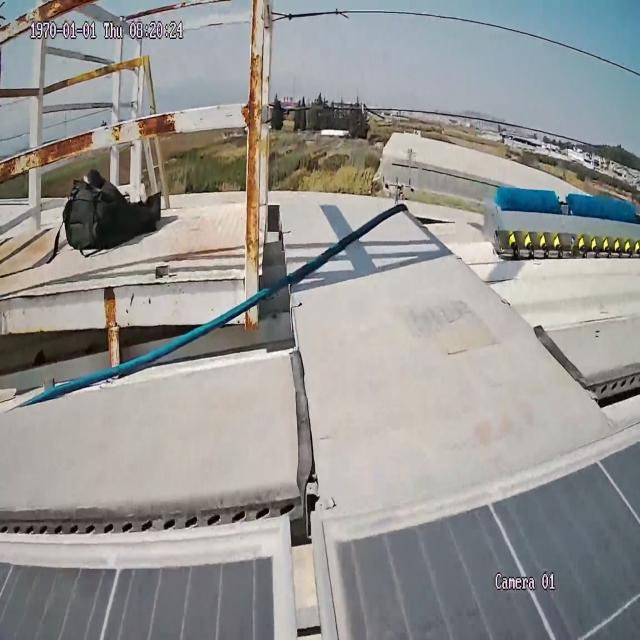interior panel: (251, 532, 392, 640)
outher panel: (0, 191, 640, 534)
